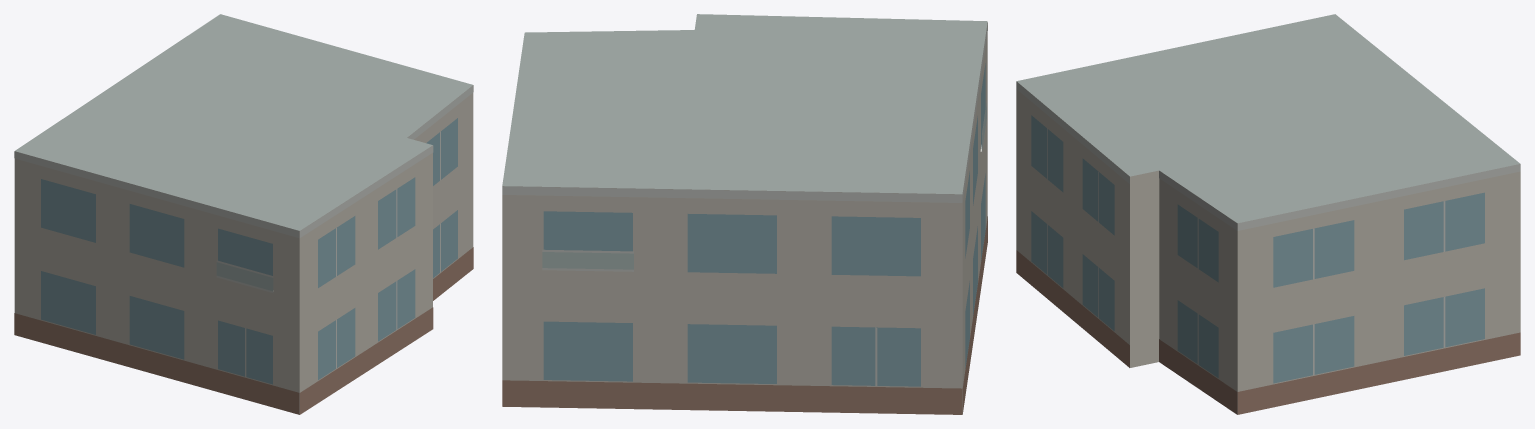
The model's file is survey-upis-32837158.glb.
3 views of the same model, side by side, from view 1: azimuth 30°, elevation 25°; view 2: azimuth 150°, elevation 25°; view 3: azimuth 270°, elevation 25° (orthographic). The views are drawn at different scales.
Parts seen in each view (by area): view 1: survey-upis-32837158.tmp; view 2: survey-upis-32837158.tmp; view 3: survey-upis-32837158.tmp.
Boxes of the visible parts, left/top/right/bottom form: survey-upis-32837158.tmp: left=14, top=14, right=473, bottom=414; survey-upis-32837158.tmp: left=502, top=14, right=987, bottom=414; survey-upis-32837158.tmp: left=1016, top=14, right=1520, bottom=414.
Bounding box in the file's own units: 14.31 × 6.1 × 14.57.
